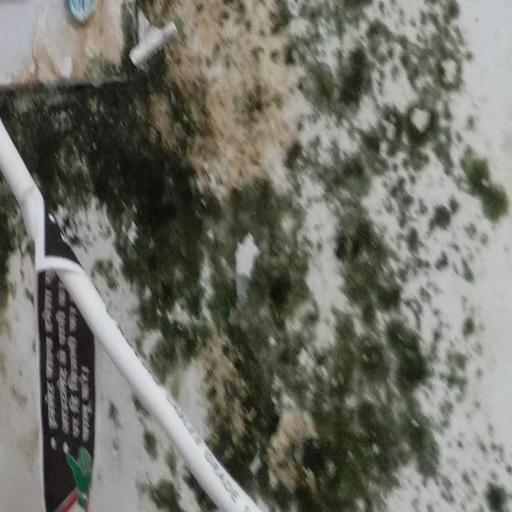algae: (20, 12, 472, 467)
